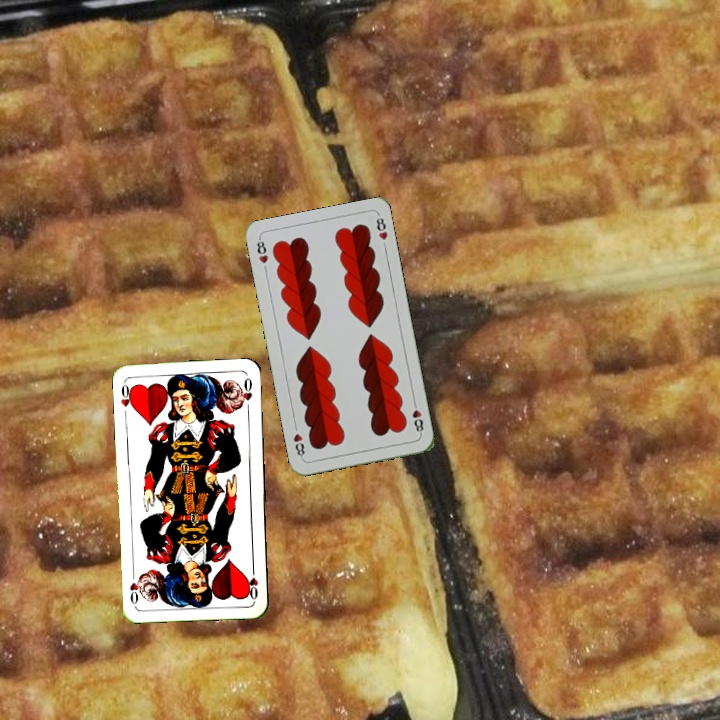H8: (408, 397, 426, 437), (253, 235, 271, 266)
HO: (244, 562, 261, 602), (117, 378, 136, 411)
